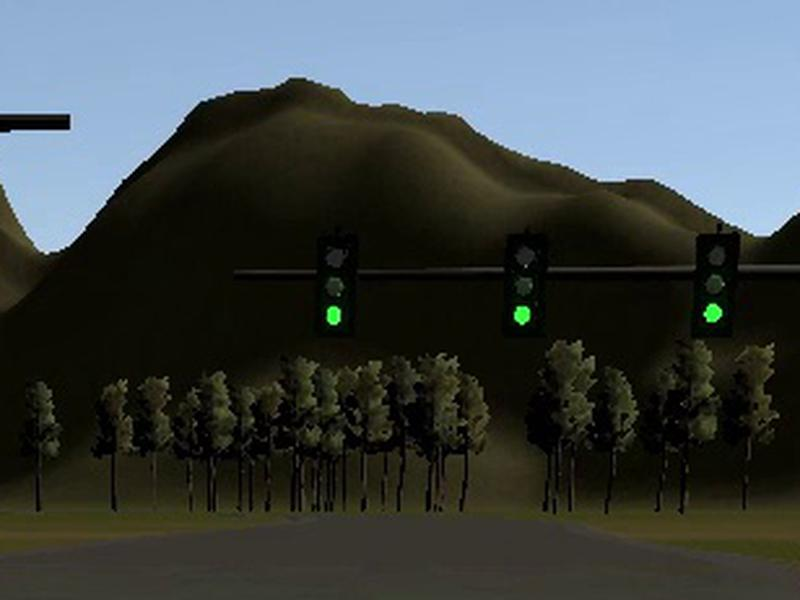Green: (691, 233, 740, 338), (502, 231, 548, 339), (314, 230, 360, 335)
